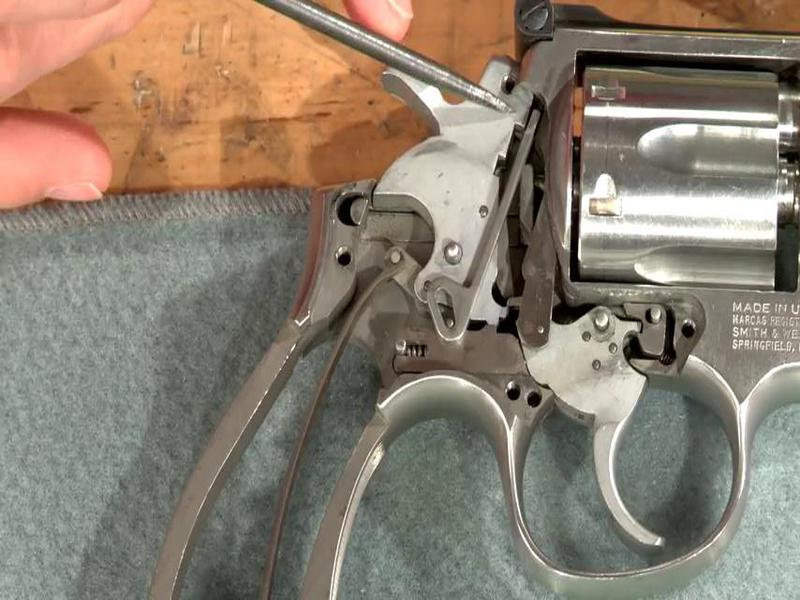Revolver: (117, 36, 800, 532)
